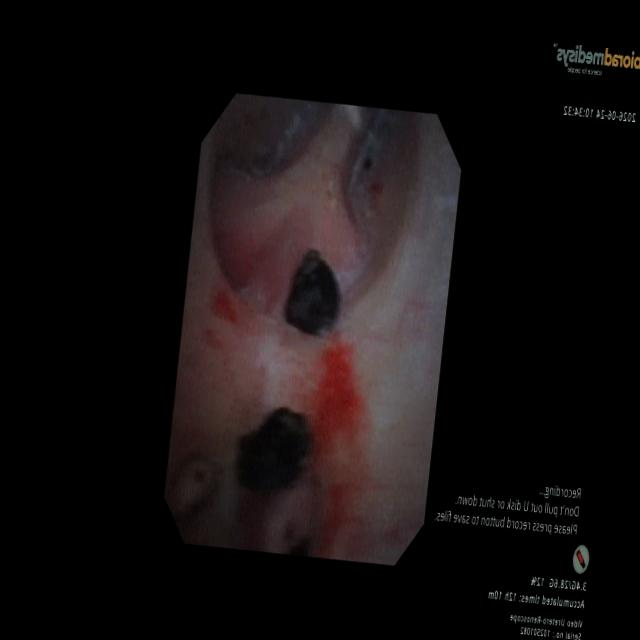stone-new: (237, 407, 312, 492), (284, 249, 340, 334), (288, 538, 310, 555), (363, 158, 372, 168)
